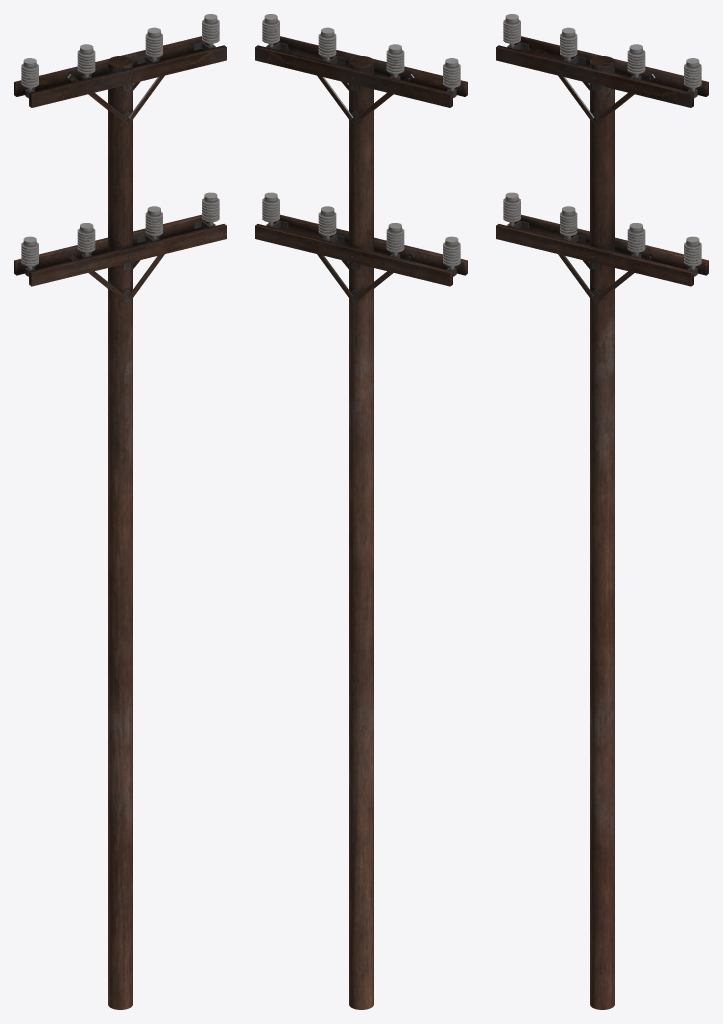
File: wood_pole_04.fbx
The picture shows the model from 3 angles, left to right: view 1: azimuth 30°, elevation 25°; view 2: azimuth 150°, elevation 25°; view 3: azimuth 330°, elevation 25°; orthographic projection.
Visible parts, largest first — view 1: 4_wood_pole; view 2: 4_wood_pole; view 3: 4_wood_pole.
Boxes of the visible parts, bbox=[...] form: 4_wood_pole: bbox=[14, 14, 226, 1009]; 4_wood_pole: bbox=[255, 14, 467, 1009]; 4_wood_pole: bbox=[496, 14, 708, 1009].
Size of the model in its own units: 301 by 1418 by 49.4.
1 material, 1 textured.
